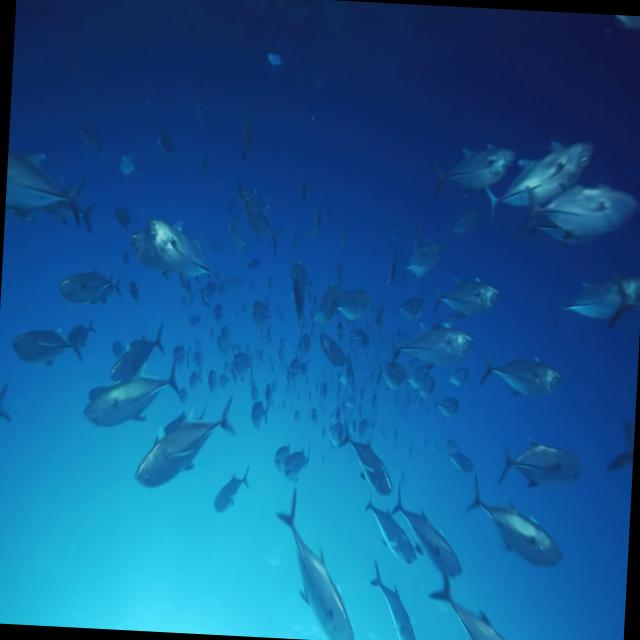fish: (269, 487, 366, 640), (461, 471, 572, 589), (476, 135, 604, 232), (132, 398, 238, 500), (385, 478, 472, 592), (81, 344, 180, 440), (518, 182, 640, 249), (425, 572, 525, 640), (4, 148, 88, 228), (498, 432, 586, 508), (478, 345, 566, 411), (551, 268, 640, 332), (432, 146, 516, 212), (232, 180, 288, 274), (366, 559, 429, 640), (332, 426, 397, 504), (143, 208, 210, 282), (10, 324, 91, 381), (359, 496, 418, 572), (430, 267, 504, 326), (214, 464, 252, 530), (334, 282, 373, 334), (280, 441, 312, 487), (248, 388, 276, 438), (439, 442, 478, 476), (434, 394, 464, 427), (274, 446, 290, 474)
